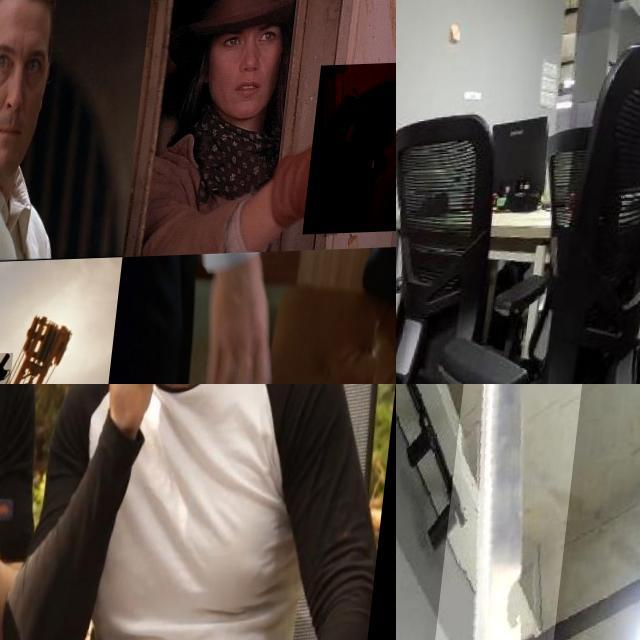-: (431, 384, 596, 640), (0, 384, 48, 501), (396, 219, 412, 291)
gun-knife-thesis - v11 Yolov5 augmented: (309, 65, 396, 238), (0, 40, 31, 179)
